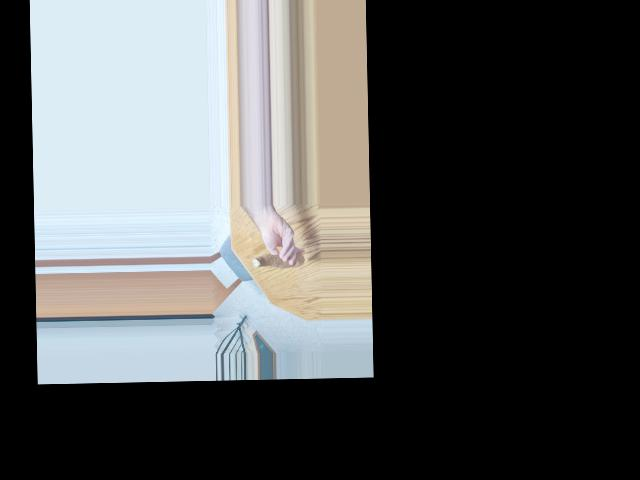sweet_potato: (255, 250, 301, 273)
